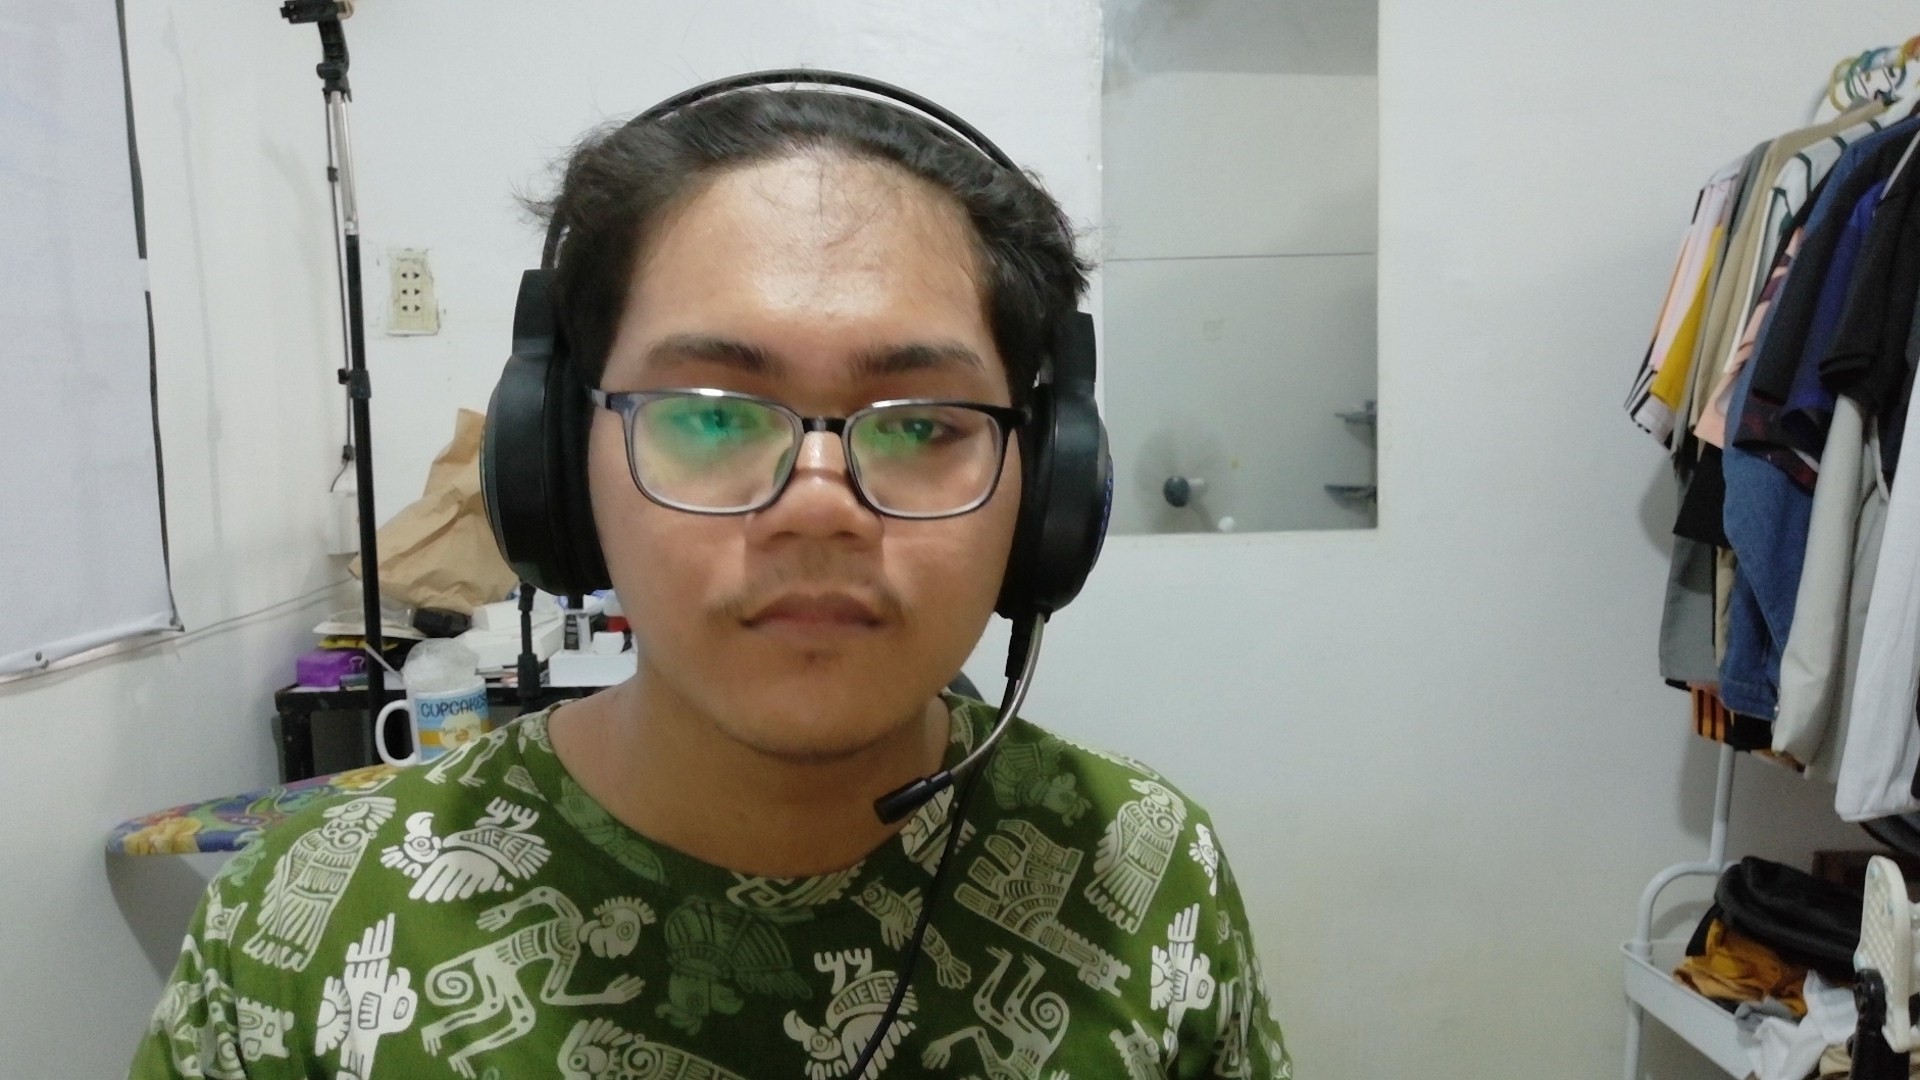face: (476, 35, 1152, 735)
